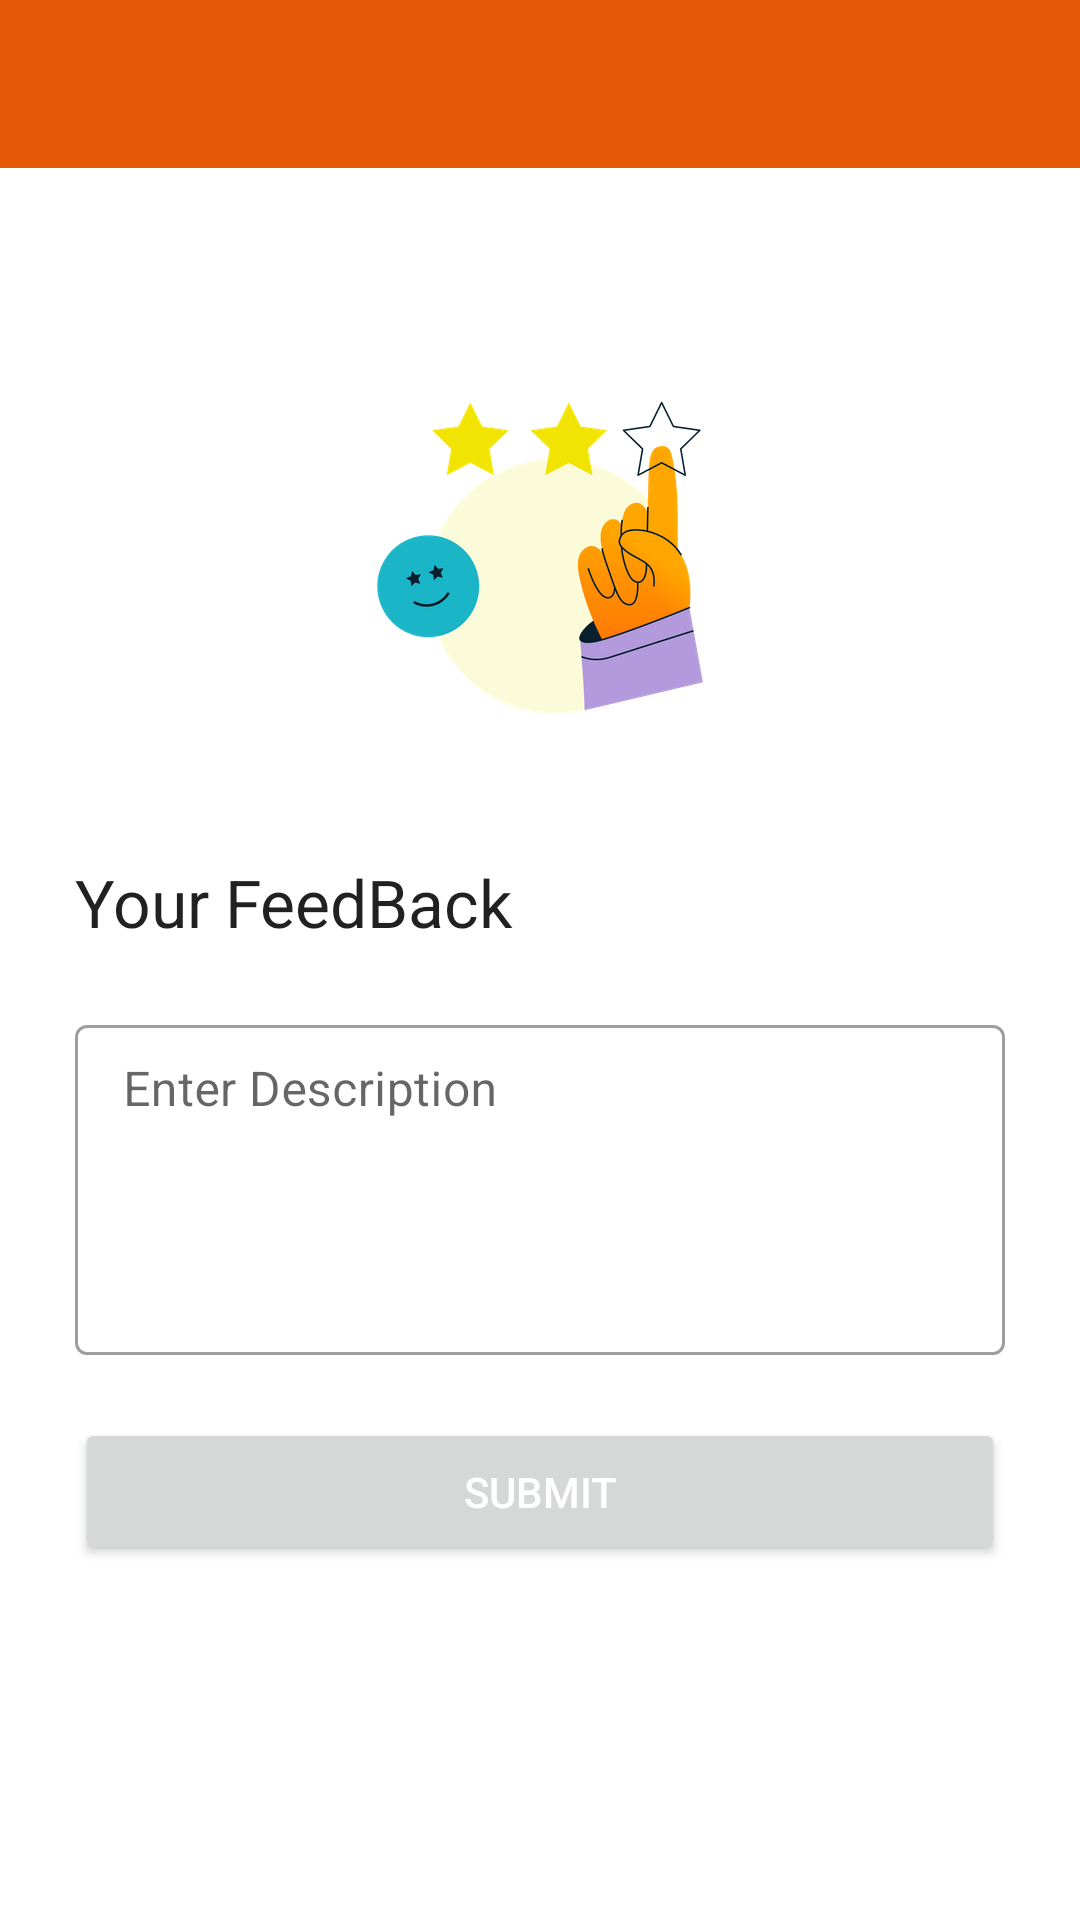

Locate icon controls on the screen. Image size 1080px×1920px, boxes as [x1=x1, y1=y1, x2=x2, y2=y2].
feedbackimage: [x1=377, y1=401, x2=703, y2=714]
